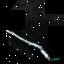Purslane: (29, 18, 64, 62)
